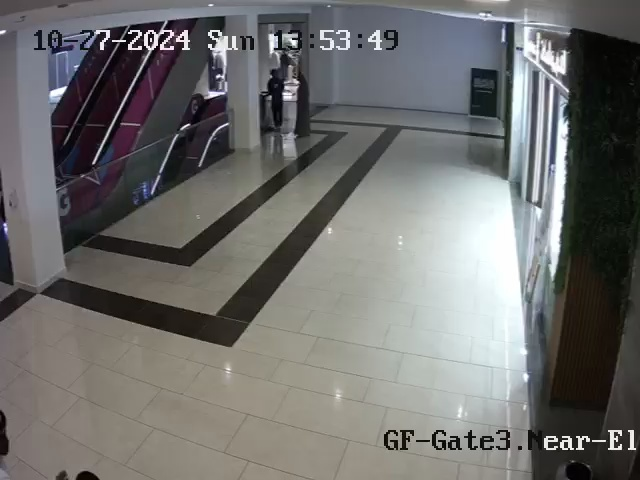female: (291, 73, 316, 146)
male: (266, 68, 284, 130)
